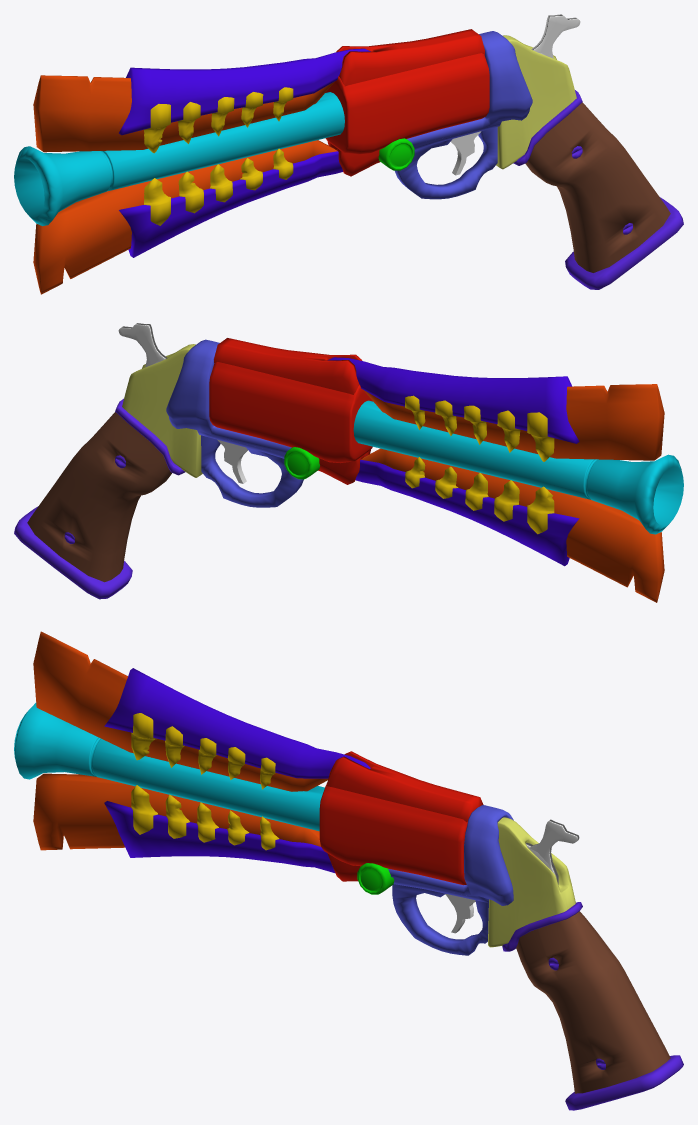
File: stylised_handgun_final.fbx
The picture shows the model from 3 angles, top to bottom: view 1: azimuth 30°, elevation 25°; view 2: azimuth 150°, elevation 25°; view 3: azimuth 330°, elevation 25°; orthographic projection.
Visible parts, largest first — view 1: barrel_low, grip_low, upper_blade_low, lower_blade_low, hammer_low, trigger_low; view 2: barrel_low, grip_low, upper_blade_low, lower_blade_low, hammer_low, trigger_low; view 3: grip_low, barrel_low, upper_blade_low, lower_blade_low, hammer_low.
Boxes of the visible parts, left/top/right/bottom form: barrel_low: left=14, top=29, right=489, bottom=226; grip_low: left=395, top=31, right=683, bottom=289; upper_blade_low: left=33, top=48, right=370, bottom=153; lower_blade_low: left=33, top=140, right=343, bottom=294; hammer_low: left=531, top=14, right=580, bottom=58; trigger_low: left=450, top=131, right=481, bottom=175; barrel_low: left=209, top=338, right=683, bottom=534; grip_low: left=14, top=339, right=303, bottom=599; upper_blade_low: left=328, top=357, right=664, bottom=461; lower_blade_low: left=355, top=448, right=664, bottom=602; hammer_low: left=118, top=323, right=167, bottom=367; trigger_low: left=217, top=439, right=247, bottom=483; grip_low: left=388, top=805, right=683, bottom=1110; barrel_low: left=14, top=702, right=483, bottom=894; upper_blade_low: left=33, top=631, right=370, bottom=791; lower_blade_low: left=33, top=773, right=335, bottom=872; hammer_low: left=525, top=819, right=579, bottom=884.
Size of the model in its own units: 0.4089 by 0.2055 by 0.0451.
